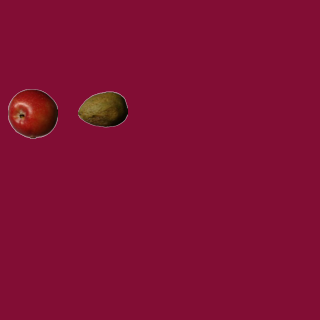Apple Braeburn: (7, 88, 57, 138)
Papaya: (77, 84, 127, 134)
